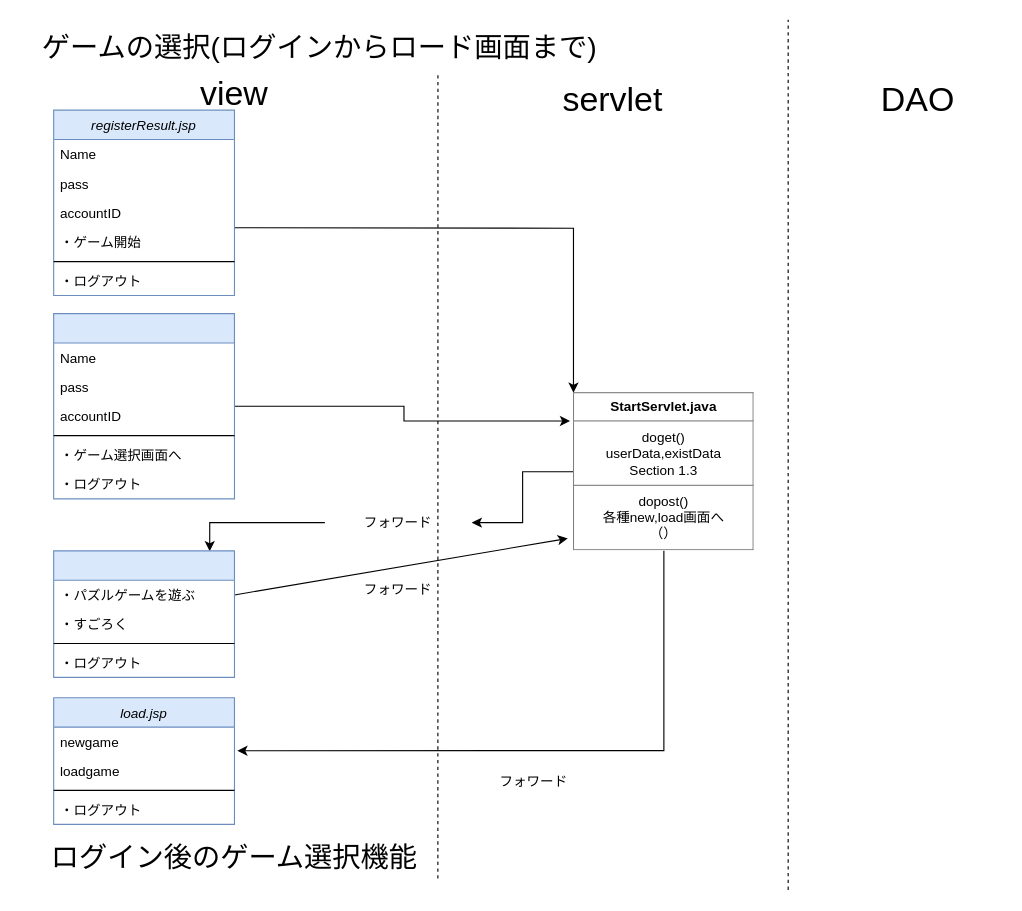
Image size: 1022x911. Some labels were removed from this diagram. Each missing label, with the box of its shape:
choice.jsp: (53, 550, 234, 677)
loginResult.jsp: (53, 312, 234, 499)
